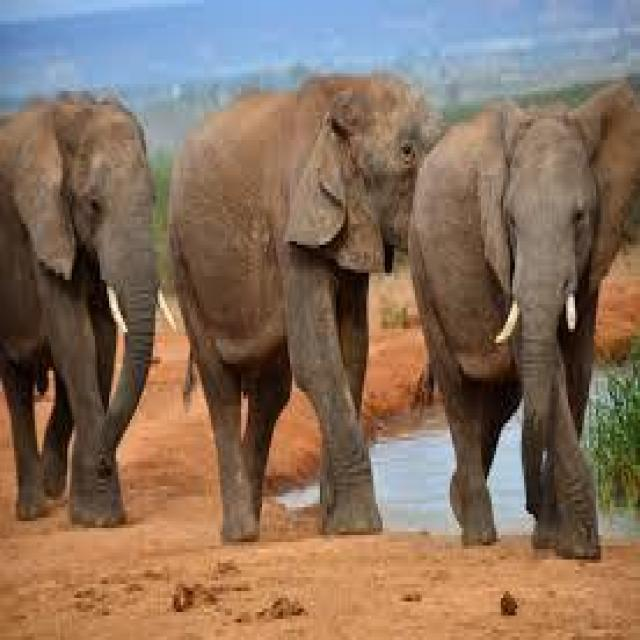Elephant: (167, 67, 434, 528), (408, 80, 638, 560), (0, 95, 158, 528)
